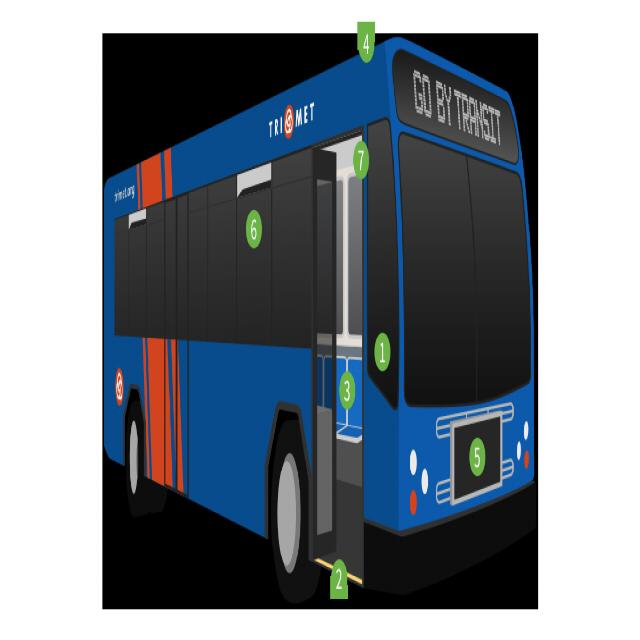bus: (100, 33, 542, 625)
